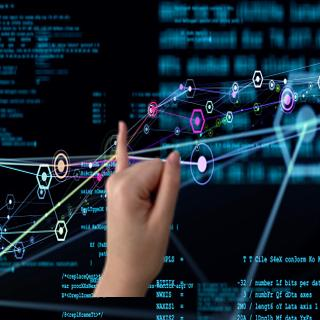Fine: (94, 118, 188, 287)
